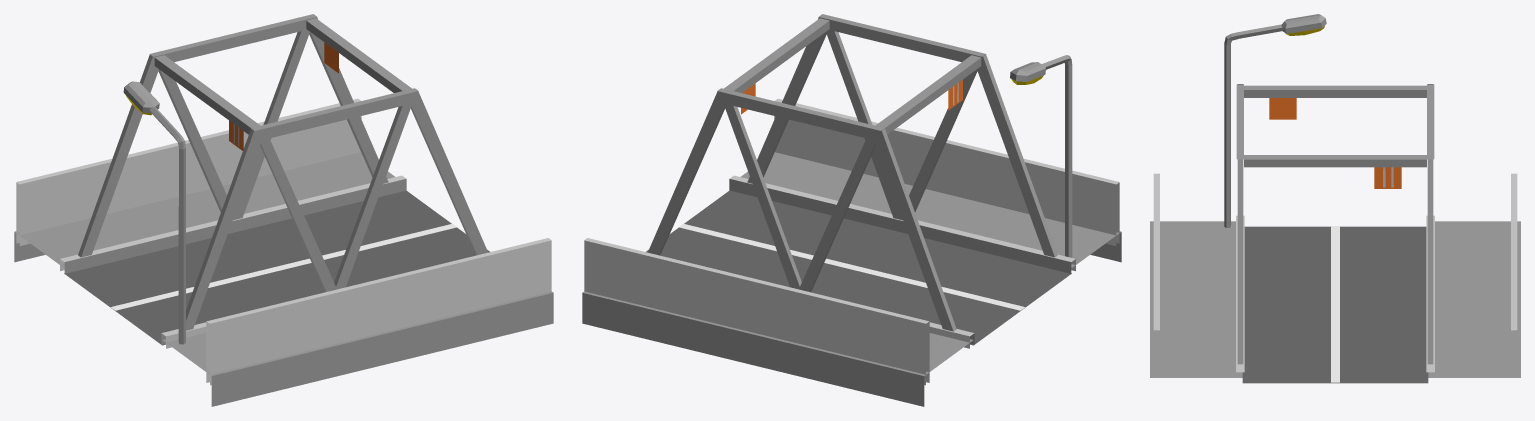
File: Bridge_Tile_5.fbx
The picture shows the model from 3 angles, left to right: view 1: azimuth 30°, elevation 25°; view 2: azimuth 150°, elevation 25°; view 3: azimuth 270°, elevation 25°; orthographic projection. The views are drawn at different scales.
Visible parts, largest first — view 1: Bridge_Road_5, Bridge_Wall_5_2, Bridge_Wall_5_1, Bridge_5_1, Bridge_5_2, Bridge_5_3, Bridge_Light_5; view 2: Bridge_Road_5, Bridge_Wall_5_1, Bridge_Wall_5_2, Bridge_5_2, Bridge_5_1, Bridge_5_3, Bridge_Light_5; view 3: Bridge_Road_5, Bridge_5_3, Bridge_Light_5, Bridge_5_1, Bridge_5_2, Bridge_Wall_5_1, Bridge_Wall_5_2.
Part boxes in pixels (box(x1,y1,x2,y2)): Bridge_Road_5: box(14, 152, 553, 406); Bridge_Wall_5_2: box(206, 238, 551, 385); Bridge_Wall_5_1: box(16, 98, 361, 245); Bridge_5_1: box(60, 18, 406, 273); Bridge_5_2: box(161, 92, 487, 348); Bridge_5_3: box(150, 14, 418, 150); Bridge_Light_5: box(123, 81, 185, 344); Bridge_Road_5: box(582, 152, 1121, 406); Bridge_Wall_5_1: box(584, 238, 929, 385); Bridge_Wall_5_2: box(774, 98, 1119, 245); Bridge_5_2: box(729, 18, 1075, 273); Bridge_5_1: box(648, 92, 974, 348); Bridge_5_3: box(717, 14, 985, 141); Bridge_Light_5: box(1010, 55, 1072, 257); Bridge_Road_5: box(1150, 221, 1520, 383); Bridge_5_3: box(1236, 84, 1434, 188); Bridge_Light_5: box(1224, 14, 1326, 227); Bridge_5_1: box(1426, 84, 1434, 372); Bridge_5_2: box(1236, 84, 1244, 372); Bridge_Wall_5_1: box(1511, 173, 1517, 330); Bridge_Wall_5_2: box(1153, 173, 1159, 330).
Size of the model in its own units: 4 by 2.86 by 4.
